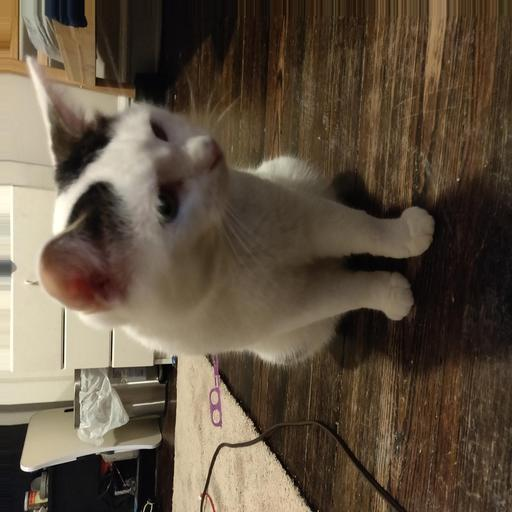cat: (31, 74, 343, 386)
